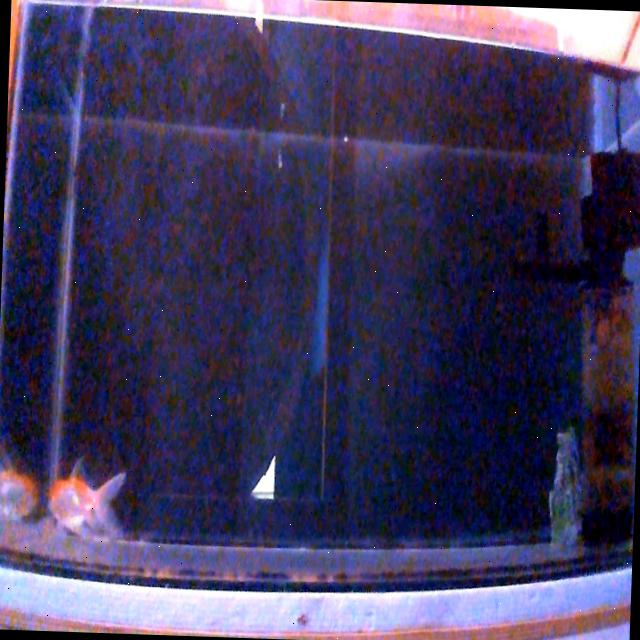fish: (48, 456, 126, 538), (0, 465, 40, 521)
